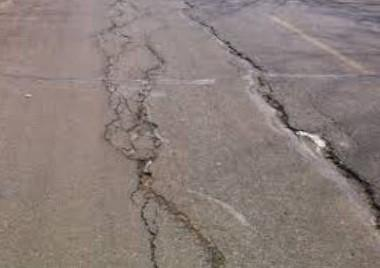alligator-crack: (96, 0, 164, 268)
crack: (175, 0, 380, 227)
